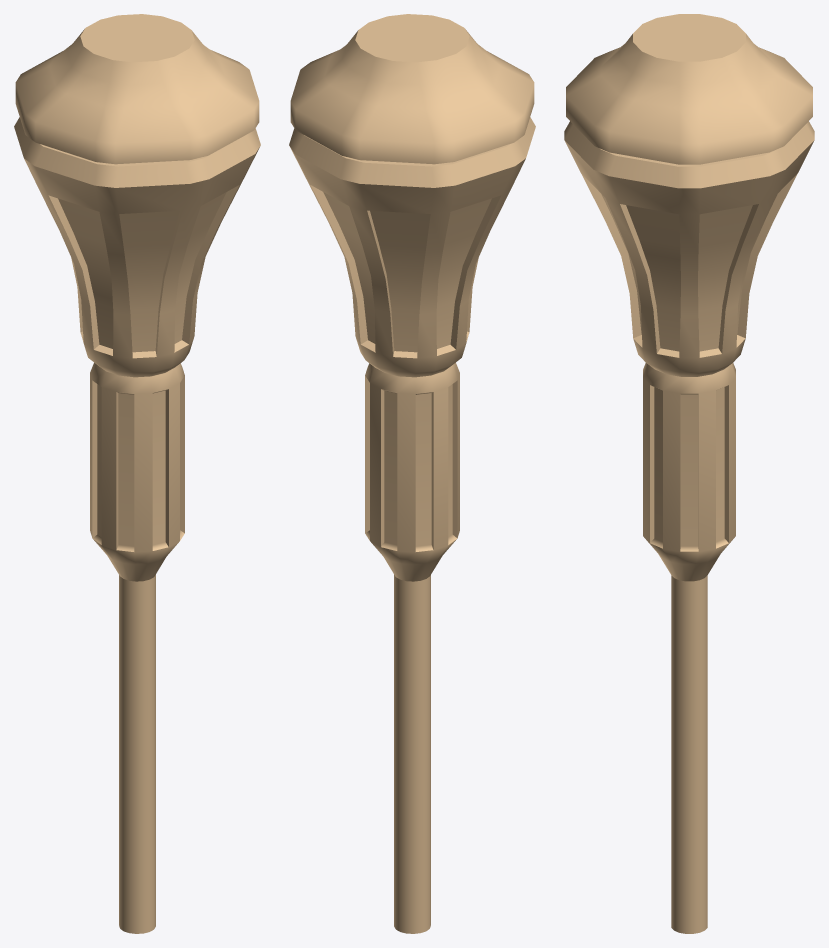
The model's file is SP_House13_Pipe03.fbx.
3 renders of one model, left to right at view 1: azimuth 30°, elevation 25°; view 2: azimuth 150°, elevation 25°; view 3: azimuth 270°, elevation 25°, orthographic.
Parts seen in each view (by area): view 1: SP_House13_Pipe03; view 2: SP_House13_Pipe03; view 3: SP_House13_Pipe03.
Boxes of the visible parts, <box> form: SP_House13_Pipe03: <box>14,14,260,933</box>; SP_House13_Pipe03: <box>289,14,535,933</box>; SP_House13_Pipe03: <box>564,14,814,933</box>.
Bounding box in the file's own units: 1.59 × 6.24 × 1.59.
